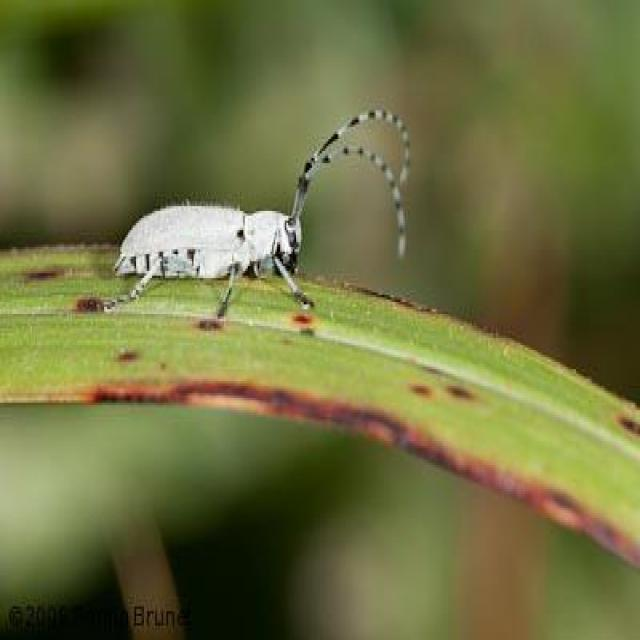BlisterBeetle-Adult-: (82, 90, 440, 339)
